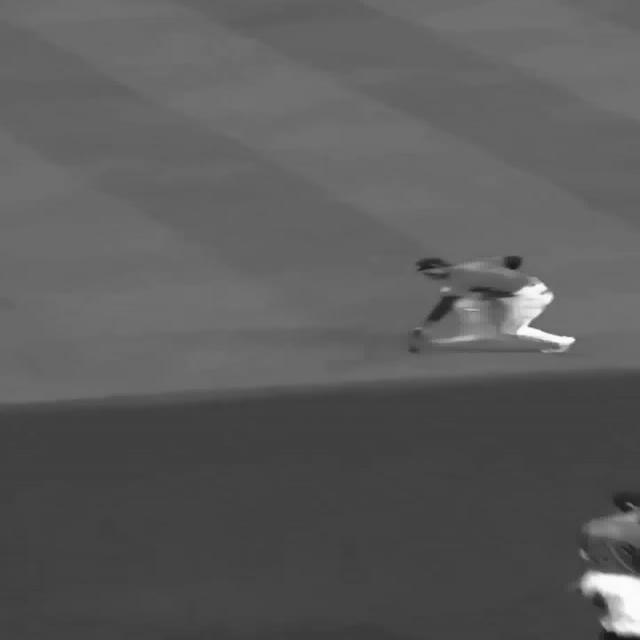baseball_glove: (406, 327, 429, 352)
shoe: (539, 336, 575, 353)
